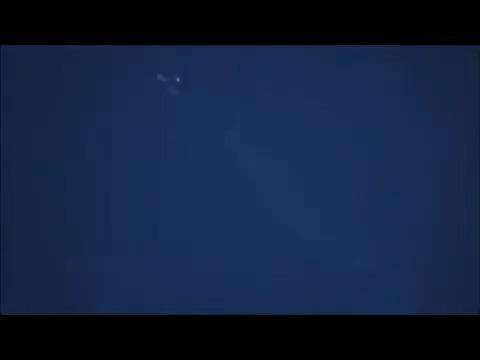Plane: (141, 66, 200, 108)
